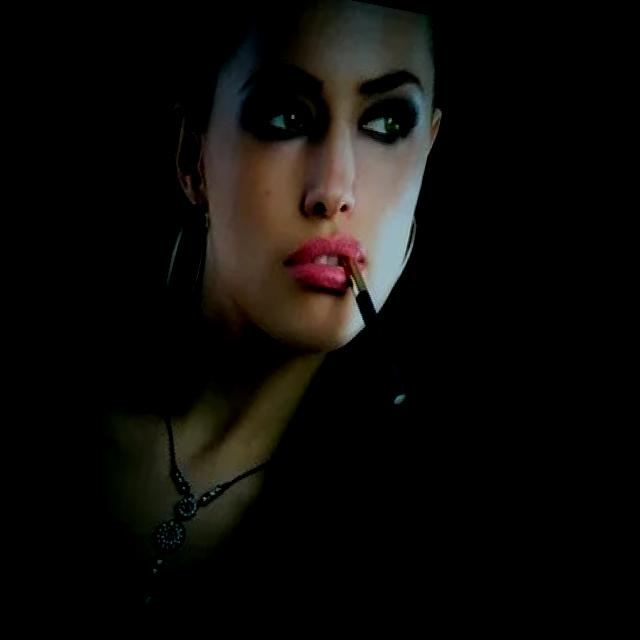smoke: (311, 250, 433, 412)
